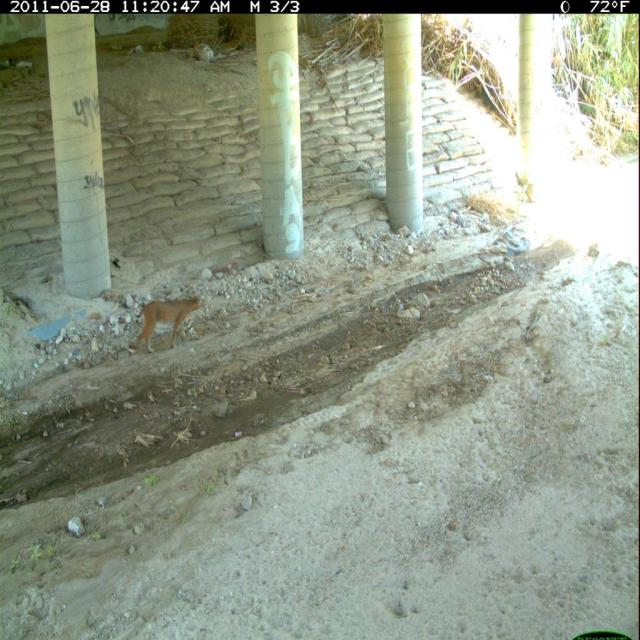bobcat: (131, 289, 209, 356)
